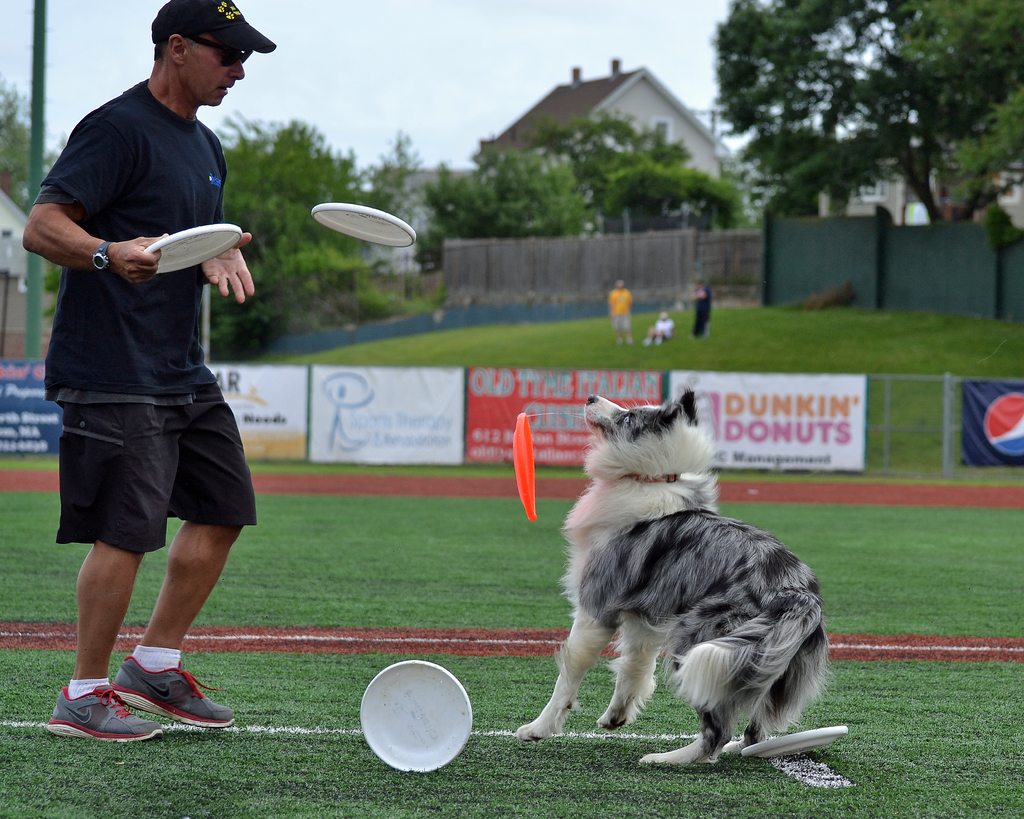plate: (348, 667, 467, 774), (308, 199, 416, 247)
